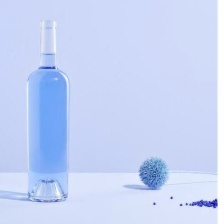bottle: (21, 15, 72, 203)
